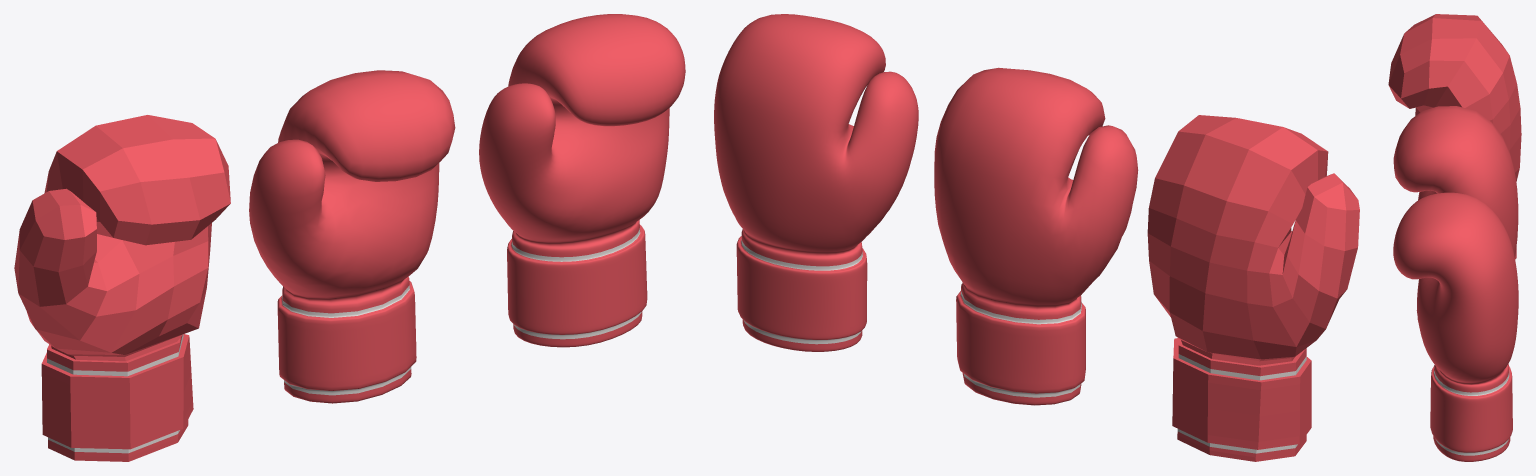
Rendered from BoxingGloves.fbx.
3 renders of one model, left to right at view 1: azimuth 30°, elevation 25°; view 2: azimuth 150°, elevation 25°; view 3: azimuth 270°, elevation 25°, orthographic. The views are drawn at different scales.
Parts seen in each view (by area): view 1: BoxingGloves, BoxingGloves.002, BoxingGloves.001; view 2: BoxingGloves, BoxingGloves.002, BoxingGloves.001; view 3: BoxingGloves.002, BoxingGloves, BoxingGloves.001.
Part boxes in pixels (<box>): BoxingGloves: <box>14,115,230,461</box>; BoxingGloves.002: <box>479,14,685,347</box>; BoxingGloves.001: <box>249,70,455,403</box>; BoxingGloves: <box>1147,115,1359,461</box>; BoxingGloves.002: <box>714,14,918,351</box>; BoxingGloves.001: <box>934,67,1138,405</box>; BoxingGloves.002: <box>1393,192,1518,461</box>; BoxingGloves: <box>1388,14,1521,259</box>; BoxingGloves.001: <box>1393,106,1518,257</box>.
Size of the model in its own units: 707 by 324 by 162.
